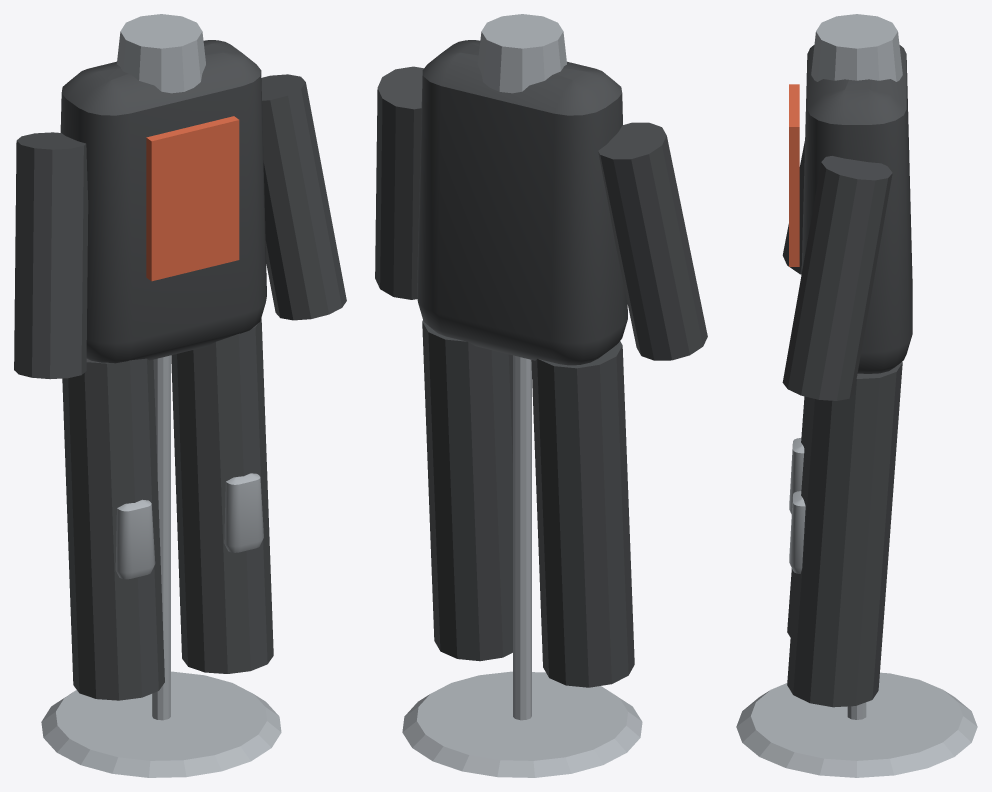
File: leathers.glb
3 renders of one model, left to right at view 1: azimuth 30°, elevation 25°; view 2: azimuth 150°, elevation 25°; view 3: azimuth 270°, elevation 25°, orthographic.
Visible parts, largest first — view 1: leathers-on-mannequin; view 2: leathers-on-mannequin; view 3: leathers-on-mannequin.
Part boxes in pixels (x1,y1,x2,y2): leathers-on-mannequin: [14, 14, 346, 777]; leathers-on-mannequin: [375, 14, 707, 777]; leathers-on-mannequin: [736, 14, 977, 777].
Bounding box in the file's own units: 0.7731 × 1.59 × 0.5.
